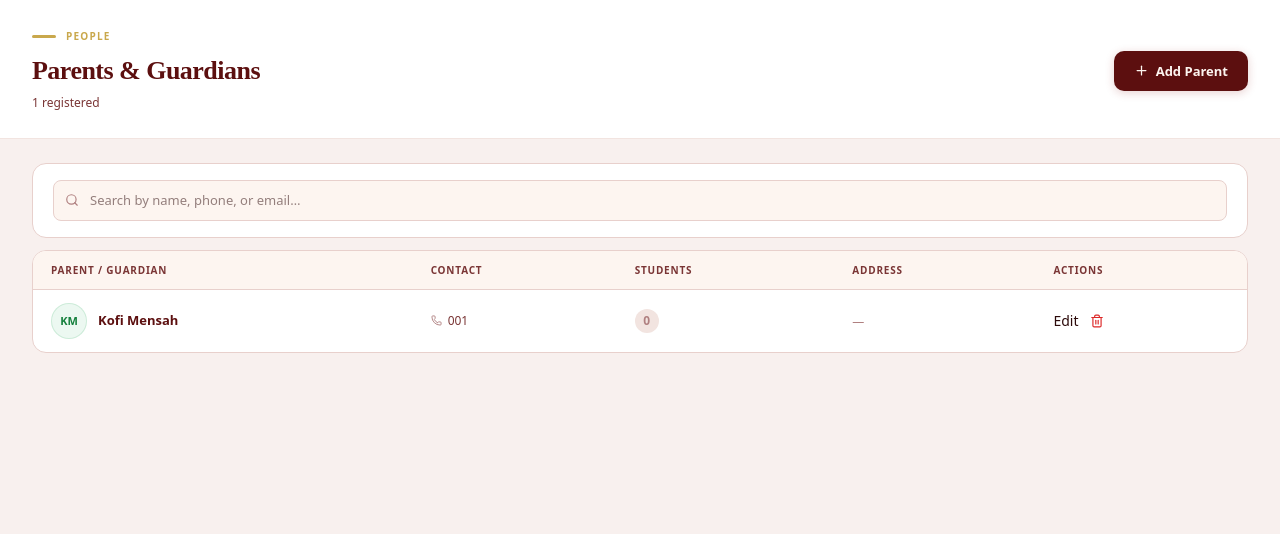
Scenario: Parents page › shows no-match message when search returns nothing
Expected: the text "Kofi Mensah" is shown, [98,310,178,331]
Step 1. Type "zzznomatch" into the field with placeholder "Search by name, phone, or email…" → (640, 200), box [53,180,1227,221]
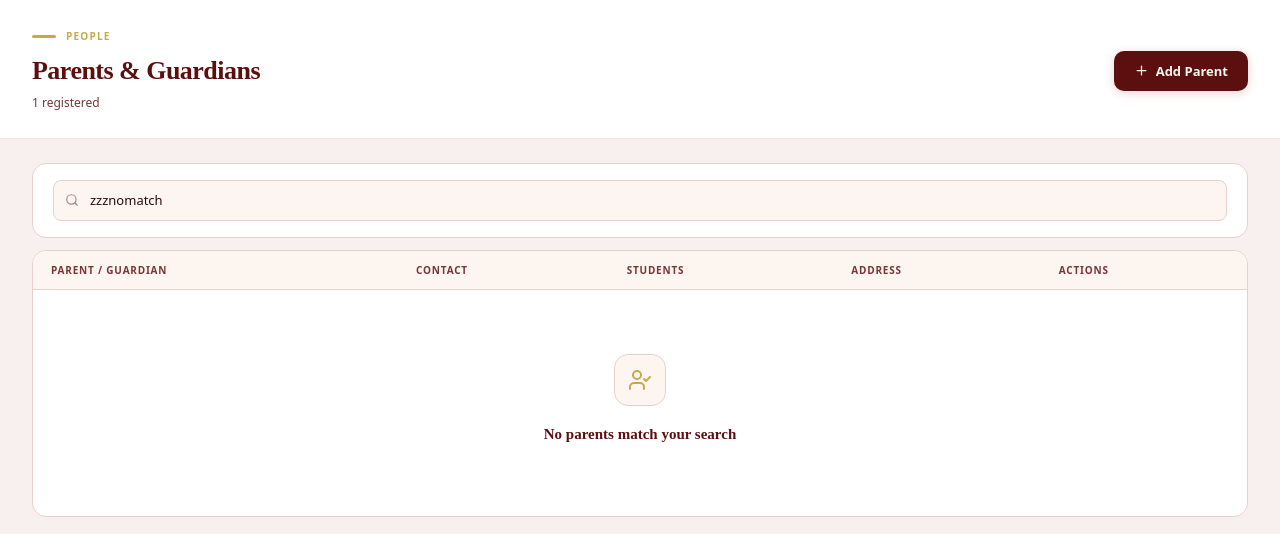
Now the text "No parents match your search" is shown, box [544,422,736,446]
